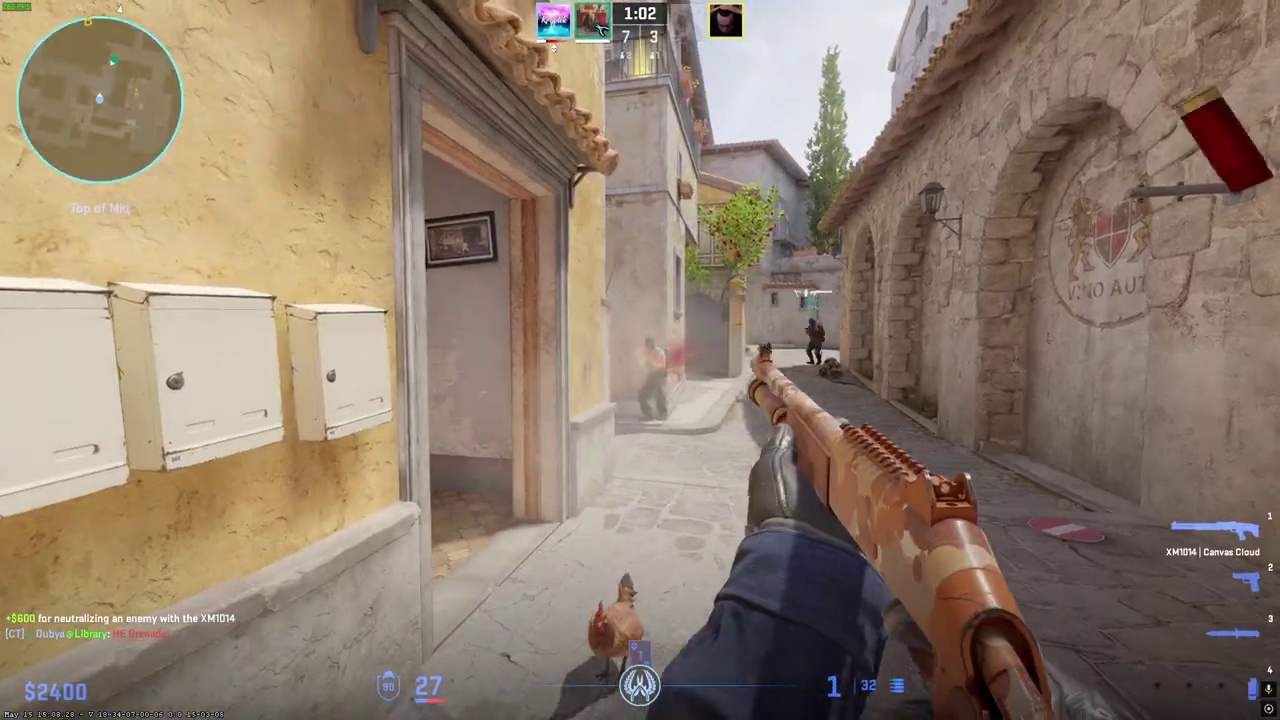CT: (805, 318, 824, 365)
Terrorist: (636, 336, 668, 422)
